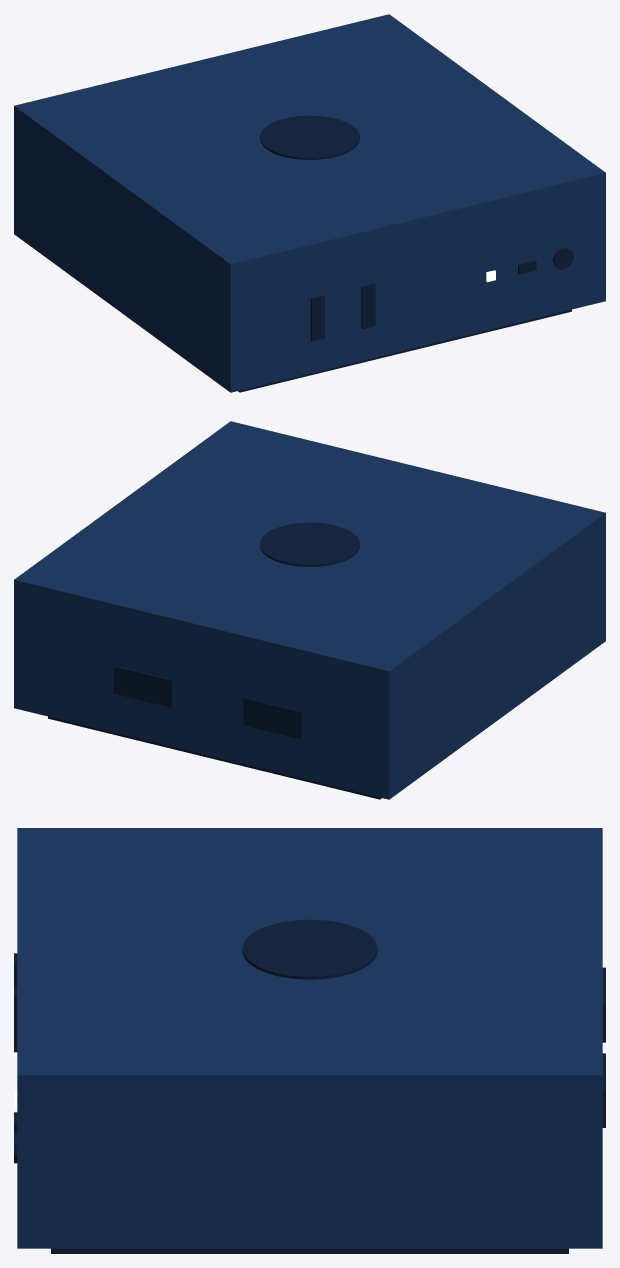
The model's file is mini-pc.glb.
3 renders of one model, top to bottom at view 1: azimuth 30°, elevation 25°; view 2: azimuth 150°, elevation 25°; view 3: azimuth 270°, elevation 25°, orthographic. The views are drawn at different scales.
Parts seen in each view (by area): view 1: body, topCircle, plinth, usbc0, usbc1; view 2: body, topCircle, rear0, rear1, plinth; view 3: body, topCircle, plinth.
Part boxes in pixels (left/top/right/bottom): body: left=14, top=14, right=605, bottom=392; topCircle: left=260, top=115, right=359, bottom=159; plinth: left=238, top=309, right=571, bottom=392; usbc0: left=310, top=295, right=324, bottom=341; usbc1: left=361, top=283, right=375, bottom=329; body: left=14, top=421, right=605, bottom=799; topCircle: left=260, top=522, right=359, bottom=566; rear0: left=243, top=697, right=302, bottom=739; rear1: left=113, top=665, right=172, bottom=707; plinth: left=48, top=716, right=381, bottom=799; body: left=17, top=828, right=602, bottom=1248; topCircle: left=242, top=919, right=377, bottom=979; plinth: left=51, top=1248, right=568, bottom=1253.
Bounding box in the file's own units: 2.6 × 0.962 × 2.63.
